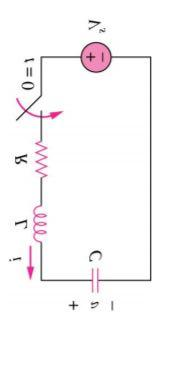resistor: (30, 133, 48, 178)
